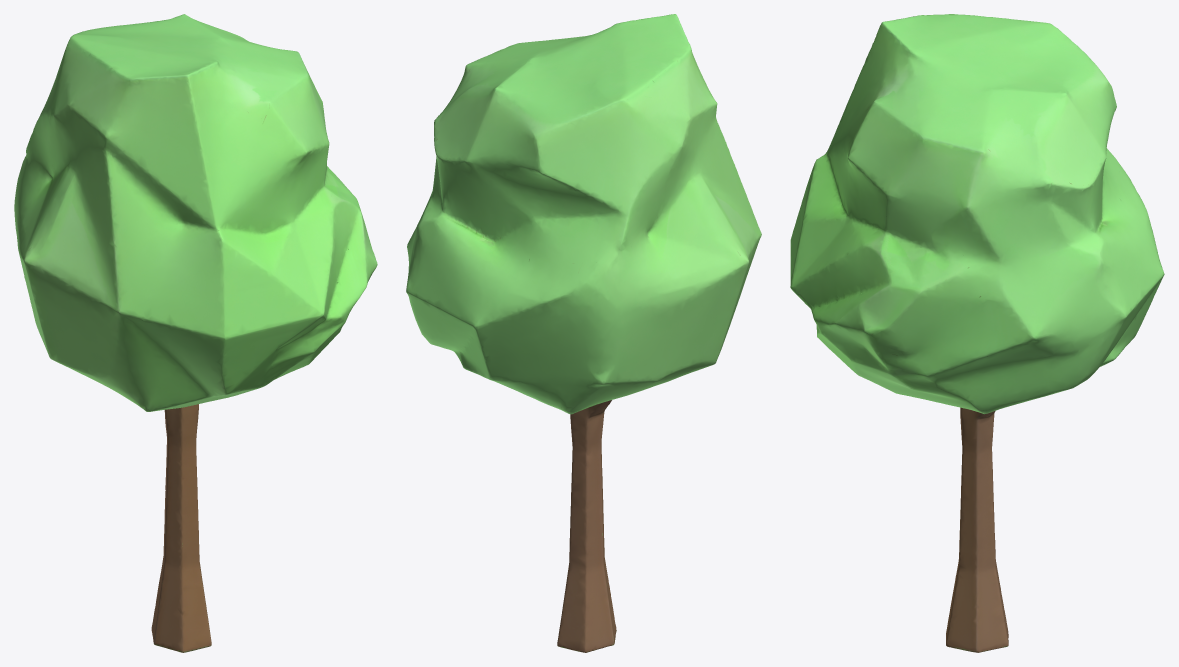
Rendered from Model_Tree_A.fbx.
The picture shows the model from 3 angles, left to right: view 1: azimuth 30°, elevation 25°; view 2: azimuth 150°, elevation 25°; view 3: azimuth 270°, elevation 25°; orthographic projection.
Visible parts, largest first — view 1: Mesh_0.001; view 2: Mesh_0.001; view 3: Mesh_0.001.
Boxes of the visible parts, box(x1,y1,x2,y2) form: Mesh_0.001: box(14, 14, 377, 652); Mesh_0.001: box(406, 14, 761, 652); Mesh_0.001: box(790, 14, 1164, 652).
Size of the model in its own units: 162 by 300 by 170.
Materials: 1 (1 with a texture image).
